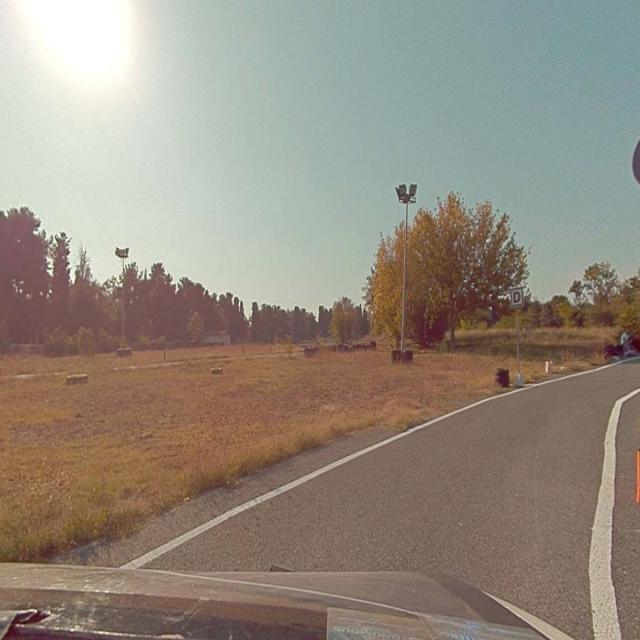durak: (511, 290, 522, 306)
